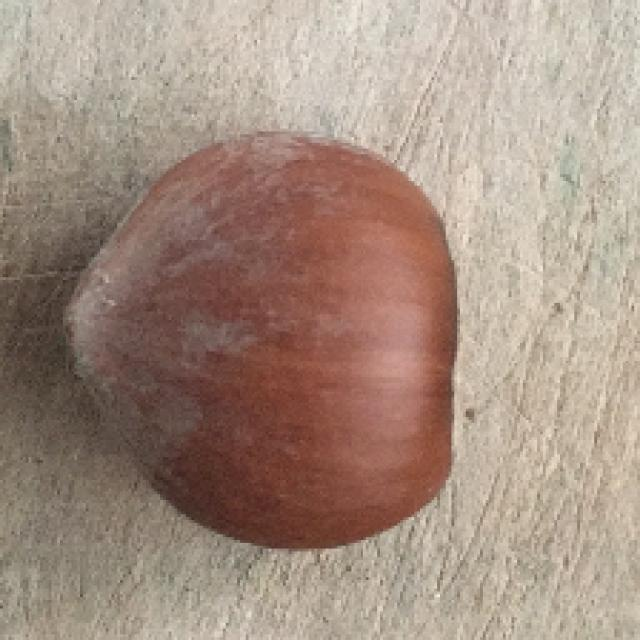qualityHazelnut: (63, 127, 464, 551)
